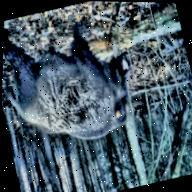boar: (1, 0, 150, 159)
